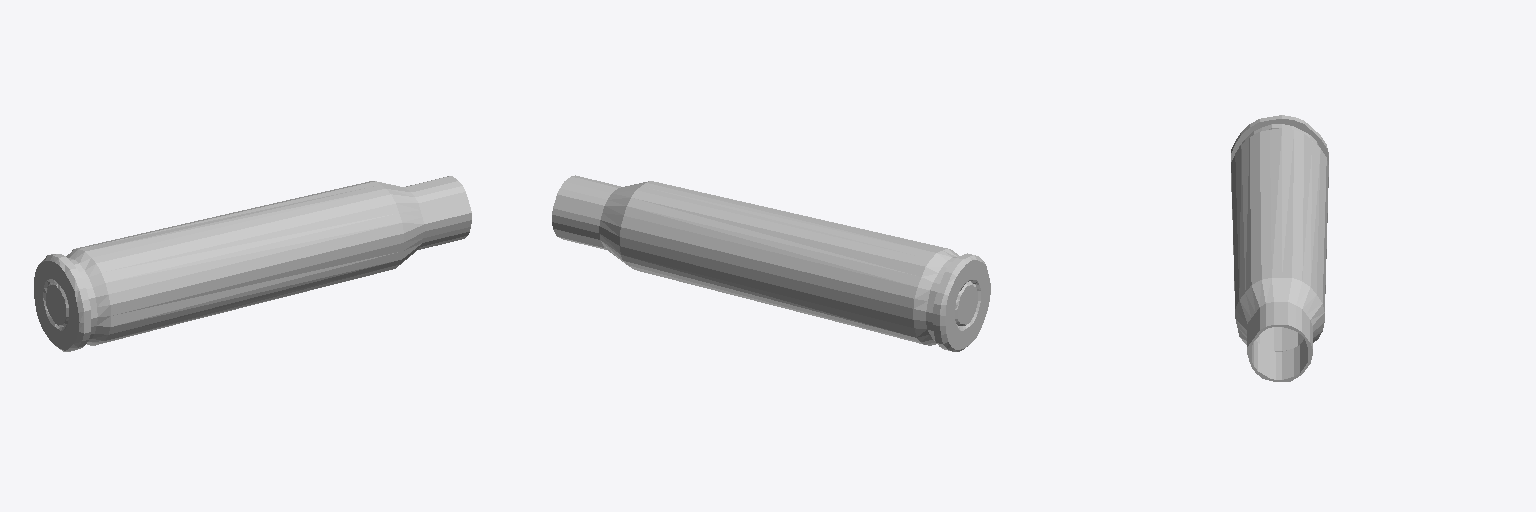
Rendered from BulletCasing_AK - Copy.obj.
3 views of the same model, side by side, from view 1: azimuth 30°, elevation 25°; view 2: azimuth 150°, elevation 25°; view 3: azimuth 270°, elevation 25° (orthographic).
Parts seen in each view (by area): view 1: BulletCasing_AK; view 2: BulletCasing_AK; view 3: BulletCasing_AK.
Boxes of the visible parts, x1,y1,x2,y2 form: BulletCasing_AK: [34, 176, 471, 351]; BulletCasing_AK: [552, 175, 990, 351]; BulletCasing_AK: [1231, 115, 1328, 381].
Bounding box in the file's own units: 0.0227 × 0.0049 × 0.0048.